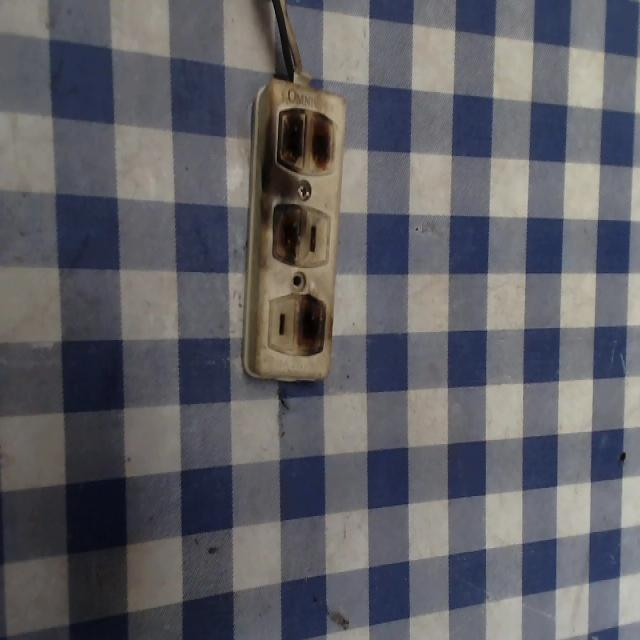-: (276, 101, 337, 180), (268, 196, 304, 265), (295, 296, 326, 360)
